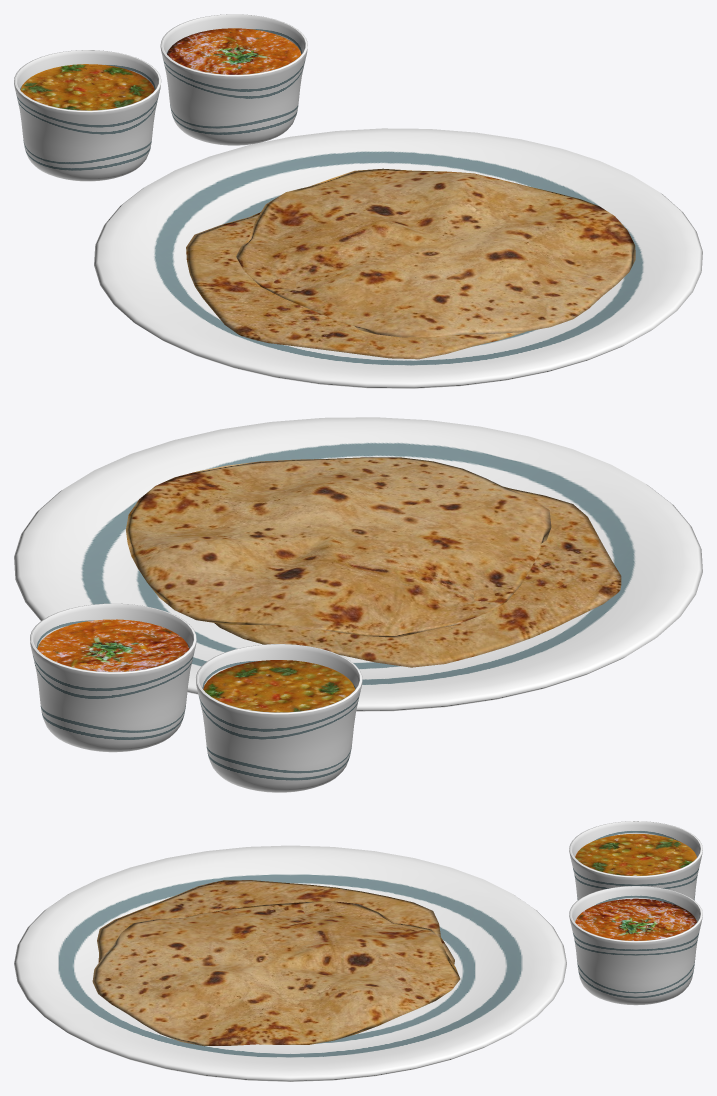
Rendered from Chapathi.fbx.
3 views of the same model, one above another, from view 1: azimuth 30°, elevation 25°; view 2: azimuth 150°, elevation 25°; view 3: azimuth 270°, elevation 25° (orthographic). The views are drawn at different scales.
Parts seen in each view (by area): view 1: pCylinder3, pCylinder2, pCylinder1, pCylinder5, pCylinder4, pDisc2, pDisc1; view 2: pCylinder3, pCylinder2, pCylinder1, pCylinder5, pCylinder4, pDisc2, pDisc1; view 3: pCylinder3, pCylinder2, pCylinder5, pCylinder1, pCylinder4, pDisc2, pDisc1.
Boxes of the visible parts, box(x1,y1,x2,y2) form: pCylinder3: box(94, 128, 702, 388); pCylinder2: box(236, 168, 635, 337); pCylinder1: box(186, 212, 525, 359); pCylinder5: box(160, 14, 307, 145); pCylinder4: box(14, 50, 161, 181); pDisc2: box(167, 28, 301, 74); pDisc1: box(20, 64, 154, 110); pCylinder3: box(14, 417, 702, 711); pCylinder2: box(126, 457, 551, 637); pCylinder1: box(214, 486, 621, 667); pCylinder5: box(30, 603, 196, 752); pCylinder4: box(196, 644, 362, 792); pDisc2: box(37, 619, 189, 671); pDisc1: box(203, 660, 355, 712); pCylinder3: box(14, 845, 566, 1081); pCylinder2: box(92, 901, 460, 1046); pCylinder5: box(569, 886, 702, 1005); pCylinder1: box(97, 880, 454, 964); pCylinder4: box(569, 821, 702, 900); pDisc2: box(575, 898, 696, 940); pDisc1: box(575, 834, 696, 875).
Size of the model in its own units: 13.06 by 1.98 by 16.27.
4 materials, 4 textured.
